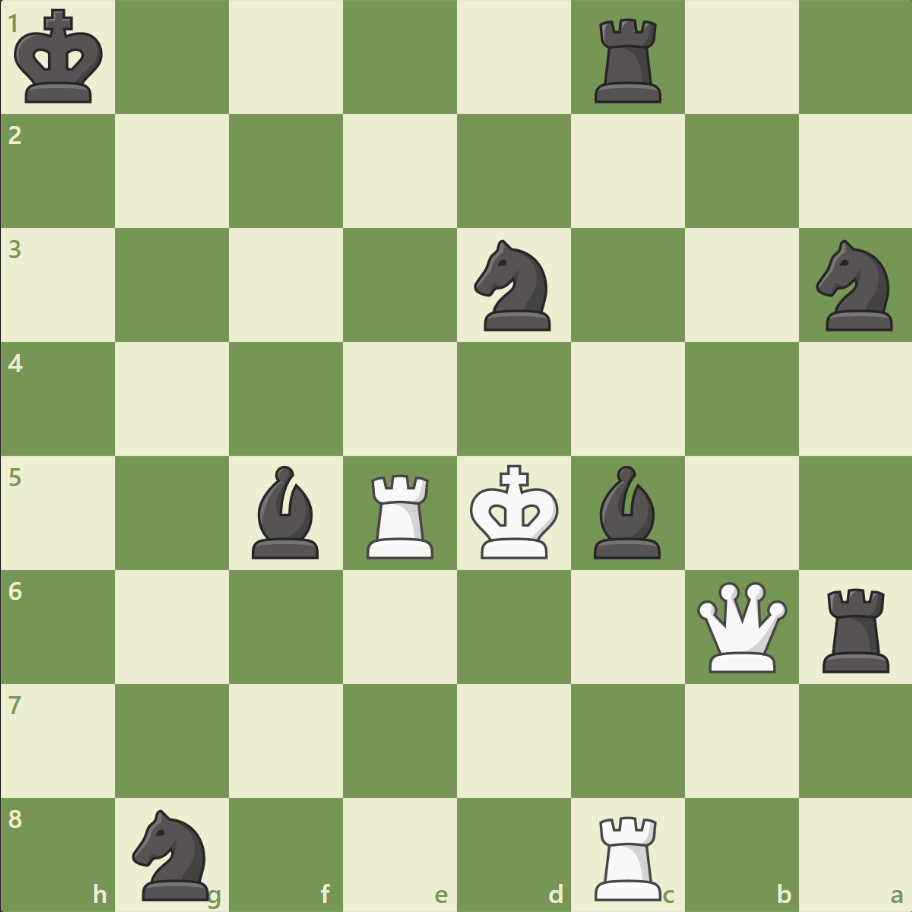K: (465, 458, 565, 566)
Q: (691, 576, 790, 676)
R: (587, 806, 670, 904), (360, 466, 442, 563)
b: (585, 460, 669, 563), (244, 460, 328, 563)
k: (11, 4, 111, 112)
n: (124, 802, 222, 904), (806, 234, 903, 337), (465, 234, 562, 337)
r: (814, 579, 897, 676), (587, 12, 670, 109)
